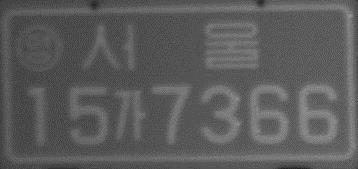1: (24, 85, 53, 151)
3: (198, 85, 241, 145)
5: (66, 85, 109, 147)
6: (247, 82, 292, 147), (295, 82, 340, 145)
7: (149, 82, 192, 148)
가: (109, 86, 148, 146)
서울_D: (78, 19, 262, 74)
영: (15, 22, 65, 75)
